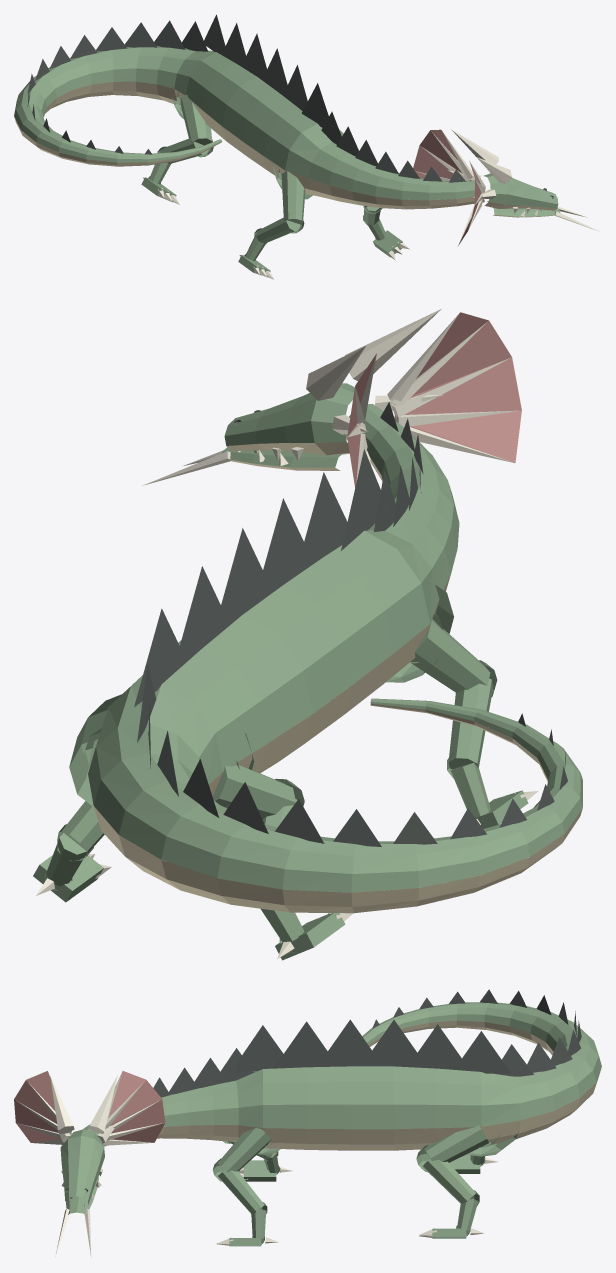
File: dragons-and-wyverns-eastern-dragon-asleep-b3dafc8b__36723.glb
3 renders of one model, top to bottom at view 1: azimuth 30°, elevation 25°; view 2: azimuth 150°, elevation 25°; view 3: azimuth 270°, elevation 25°, orthographic. The views are drawn at different scales.
Parts seen in each view (by area): view 1: eastern-dragon-asleep; view 2: eastern-dragon-asleep; view 3: eastern-dragon-asleep.
Boxes of the visible parts, x1,y1,x2,y2 form: eastern-dragon-asleep: (14,14,599,279); eastern-dragon-asleep: (33,309,582,960); eastern-dragon-asleep: (14,989,601,1257).
Size of the model in its own units: 4.14 by 1.89 by 5.11.
